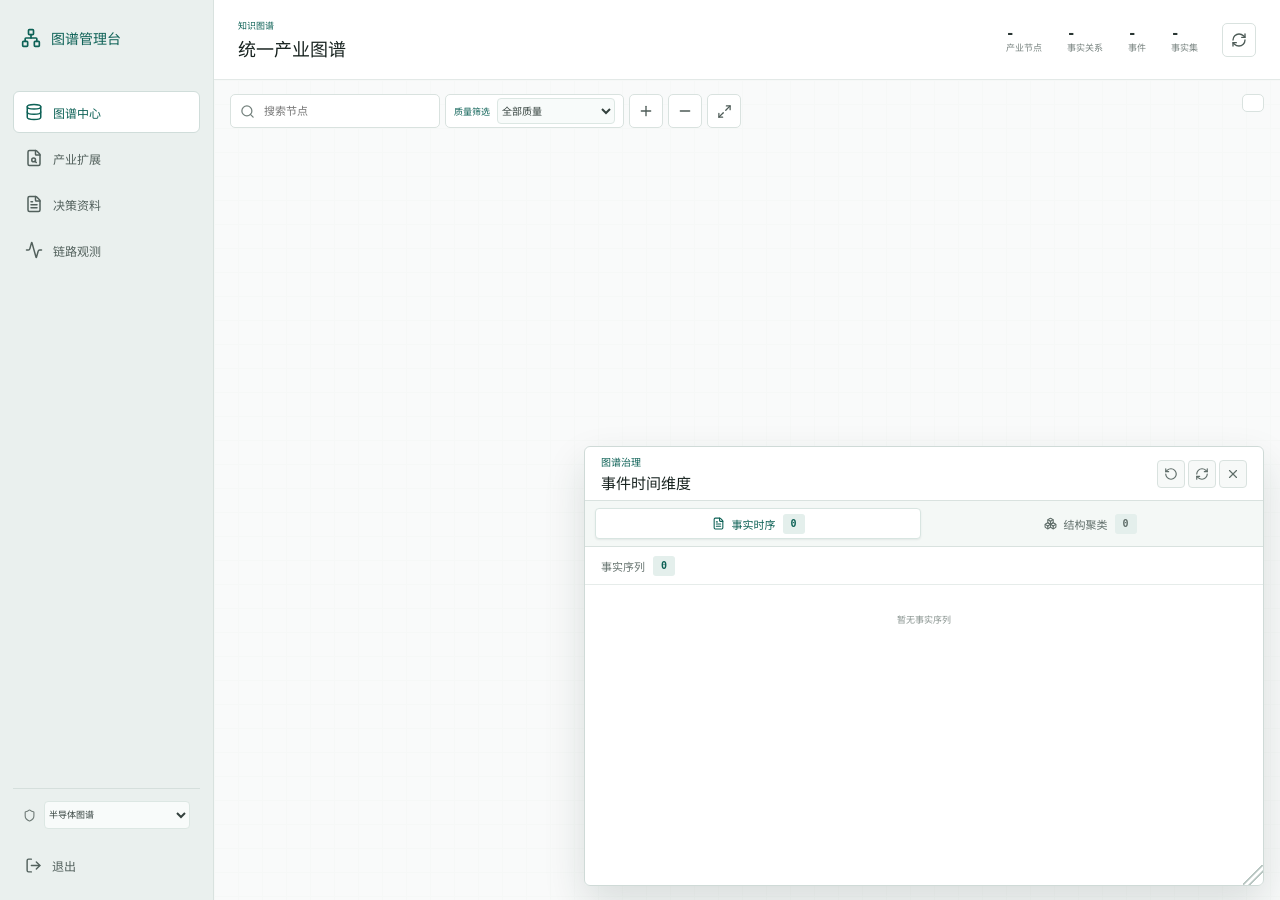
管理端 › 管理端可以上传决策资料文本
Click the button "决策资料": {"x": 106, "y": 204} x1=13 y1=183 x2=200 y2=225
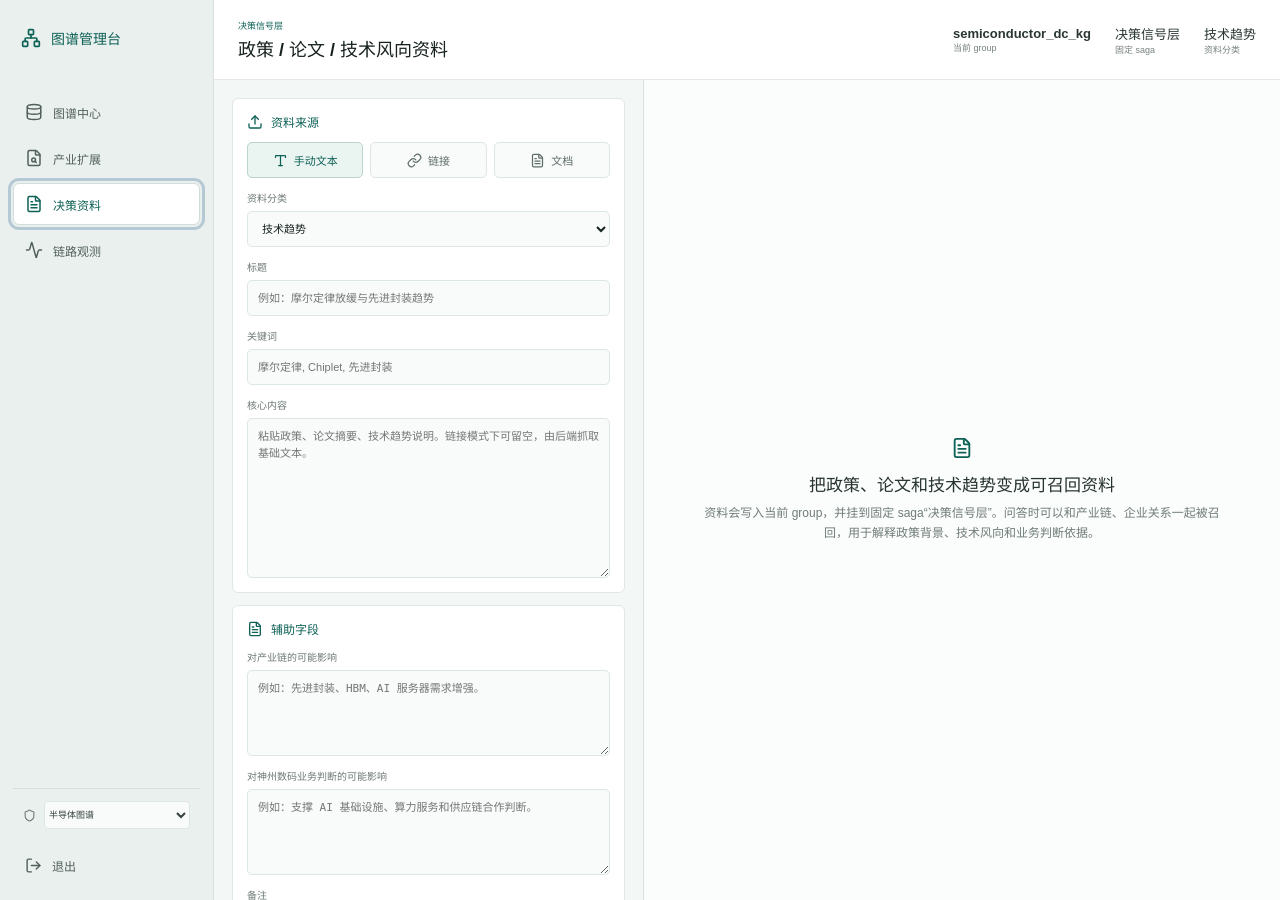
In the field labelled "标题": {"x": 428, "y": 298} x1=247 y1=280 x2=610 y2=316, type "摩尔定律放缓"
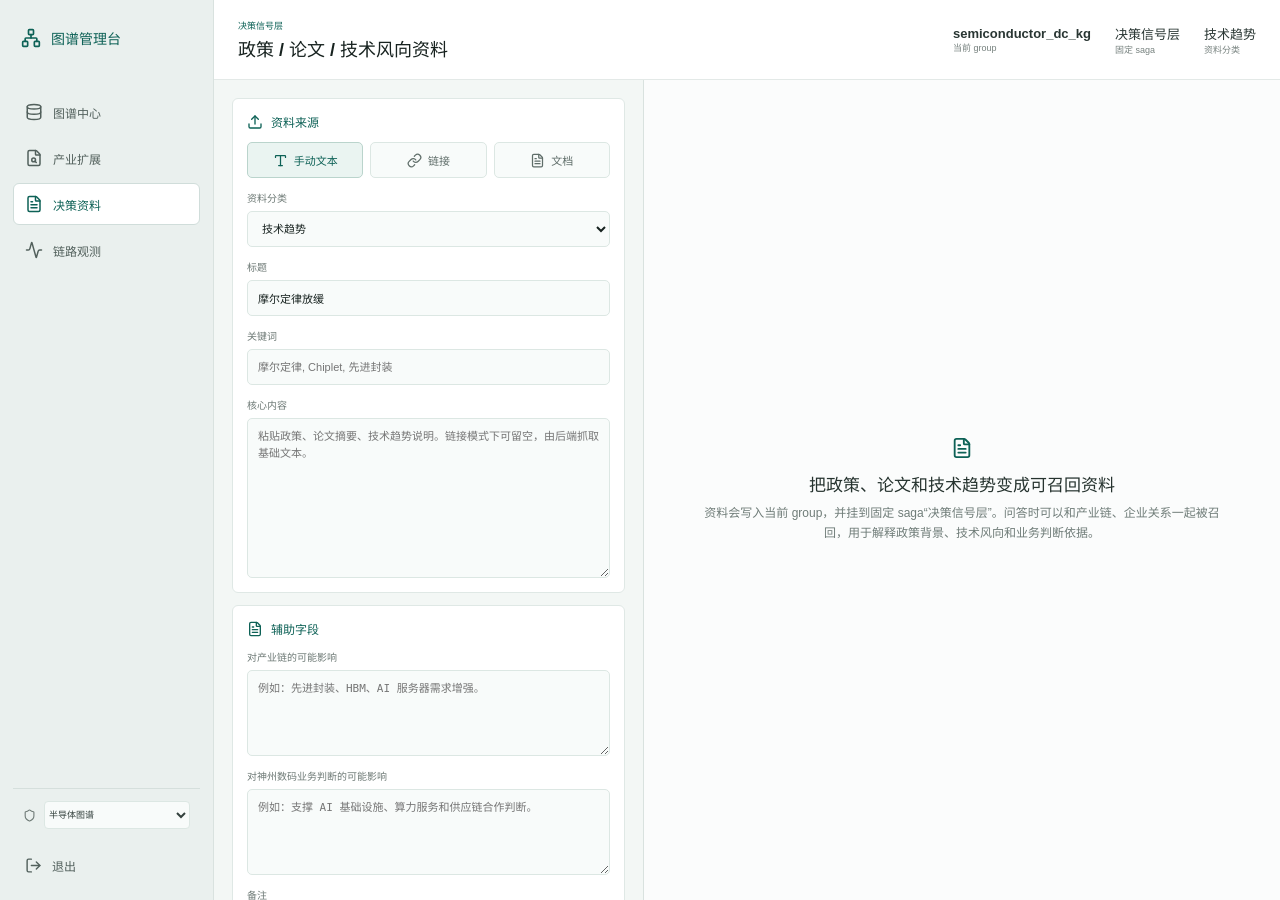
In the text box labelled "核心内容": {"x": 428, "y": 498} x1=247 y1=418 x2=610 y2=578, type "摩尔定律放缓推动先进封装和 Chiplet。"
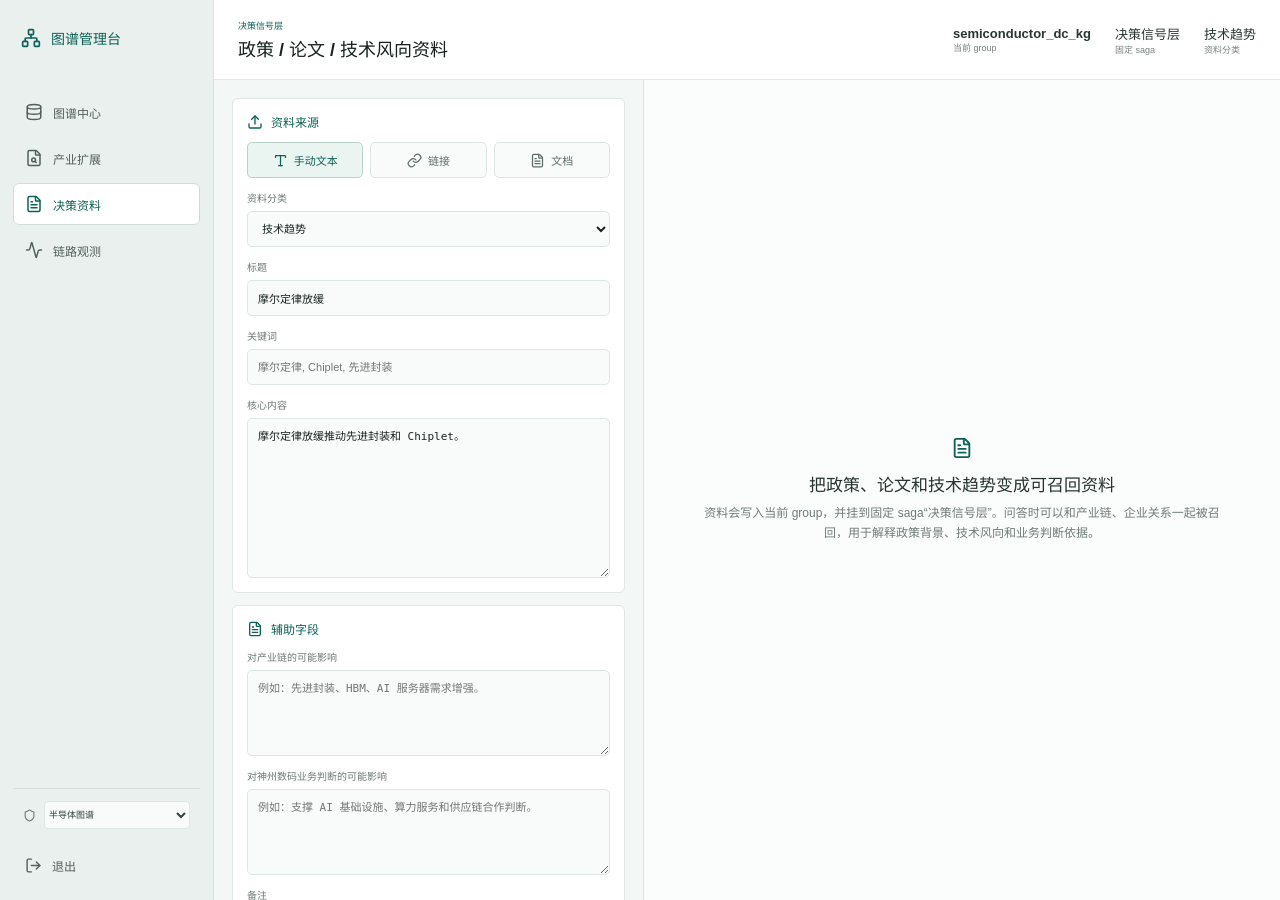
In the field labelled "关键词": {"x": 428, "y": 367} x1=247 y1=349 x2=610 y2=385, type "摩尔定律, Chiplet"
(page scrolled)
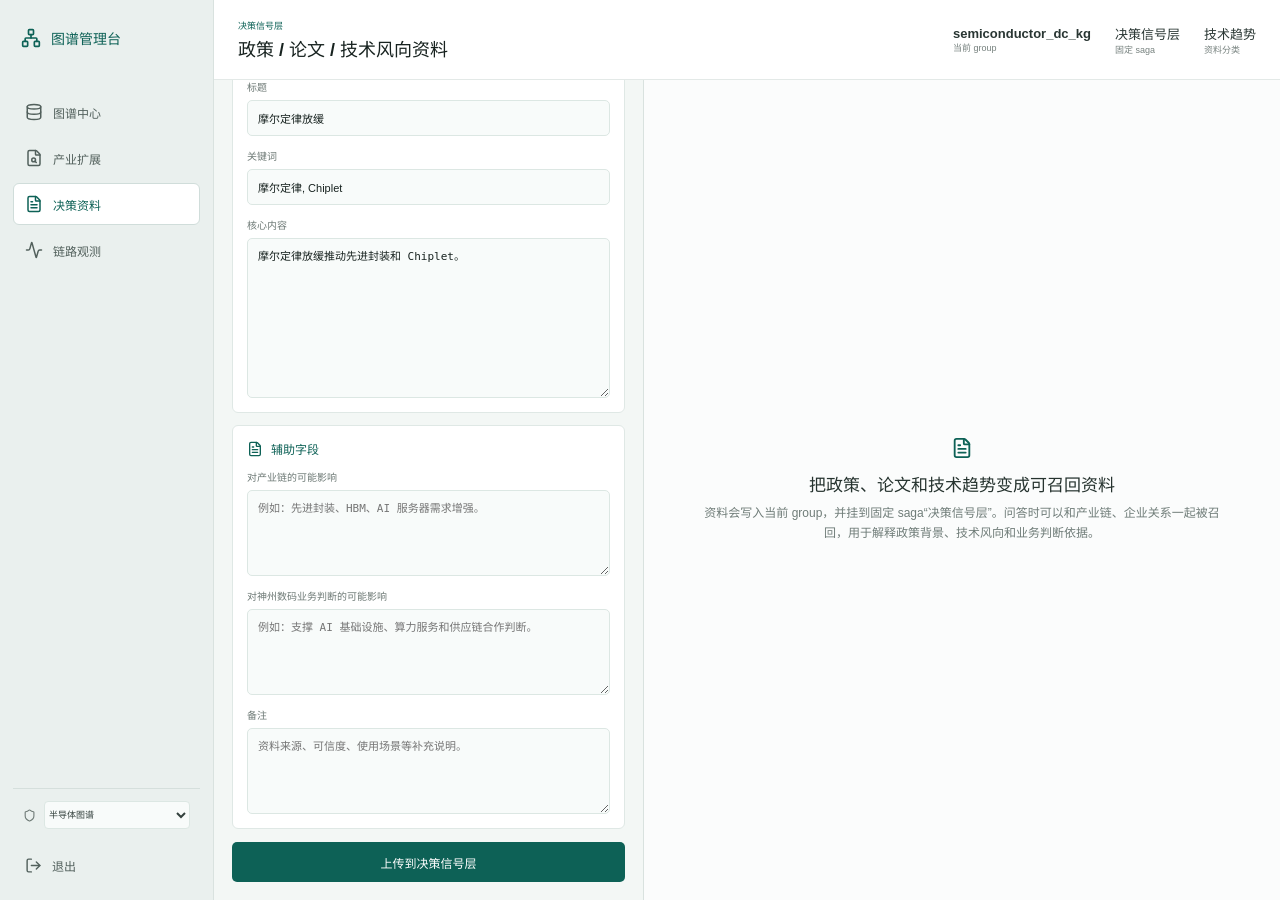
Click the button "上传到决策信号层": {"x": 428, "y": 862} x1=232 y1=842 x2=625 y2=882
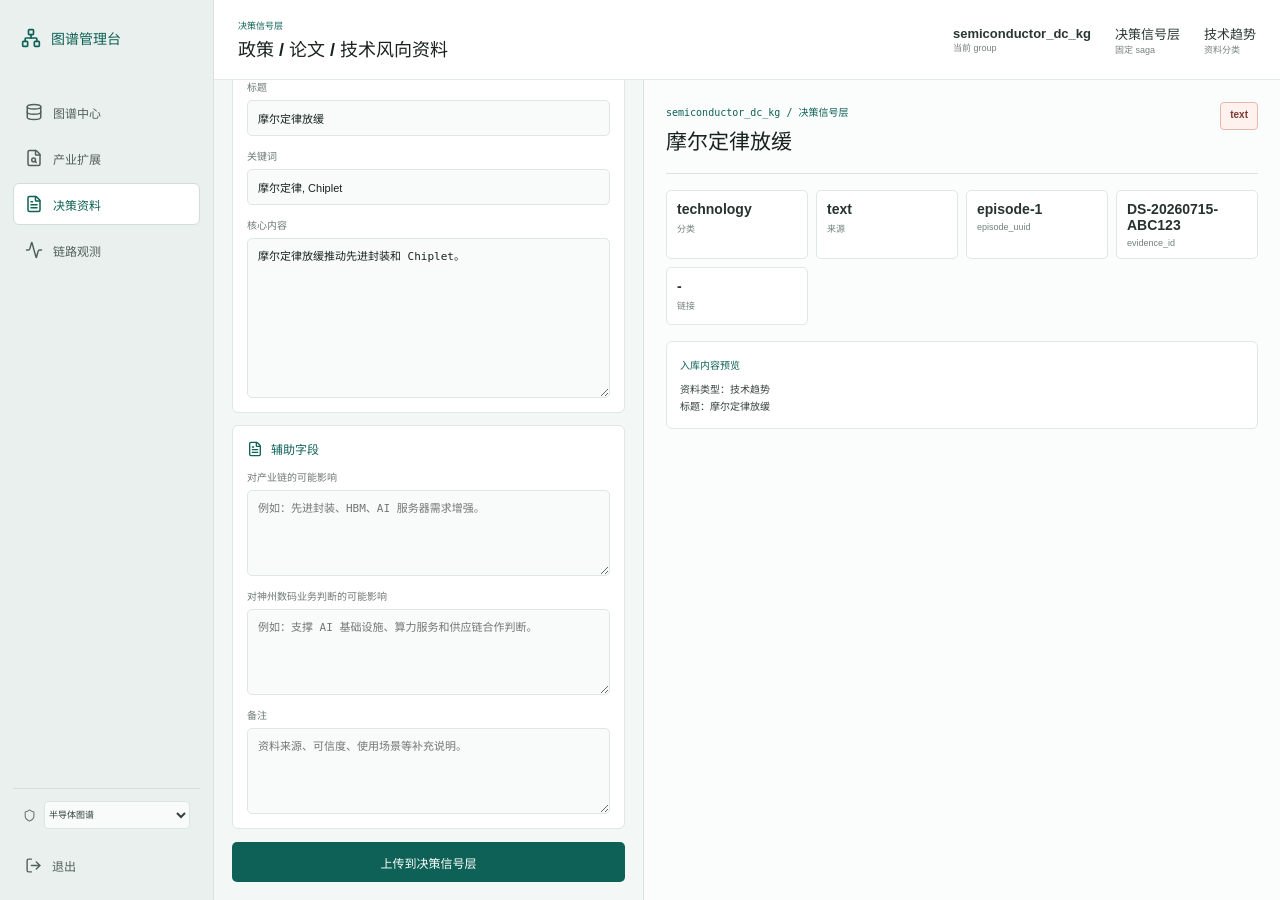
Expected: the heading "摩尔定律放缓" is shown, x1=666 y1=130 x2=792 y2=153
Expected: the text "semiconductor_dc_kg / 决策信号层" is shown, x1=666 y1=107 x2=848 y2=118
Expected: the text "episode-1" is shown, x1=977 y1=201 x2=1042 y2=217
